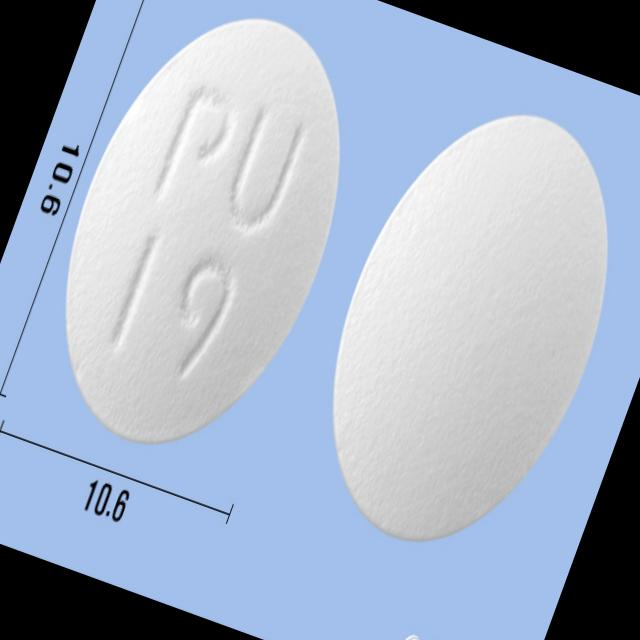Flori: (10, 0, 395, 481)
